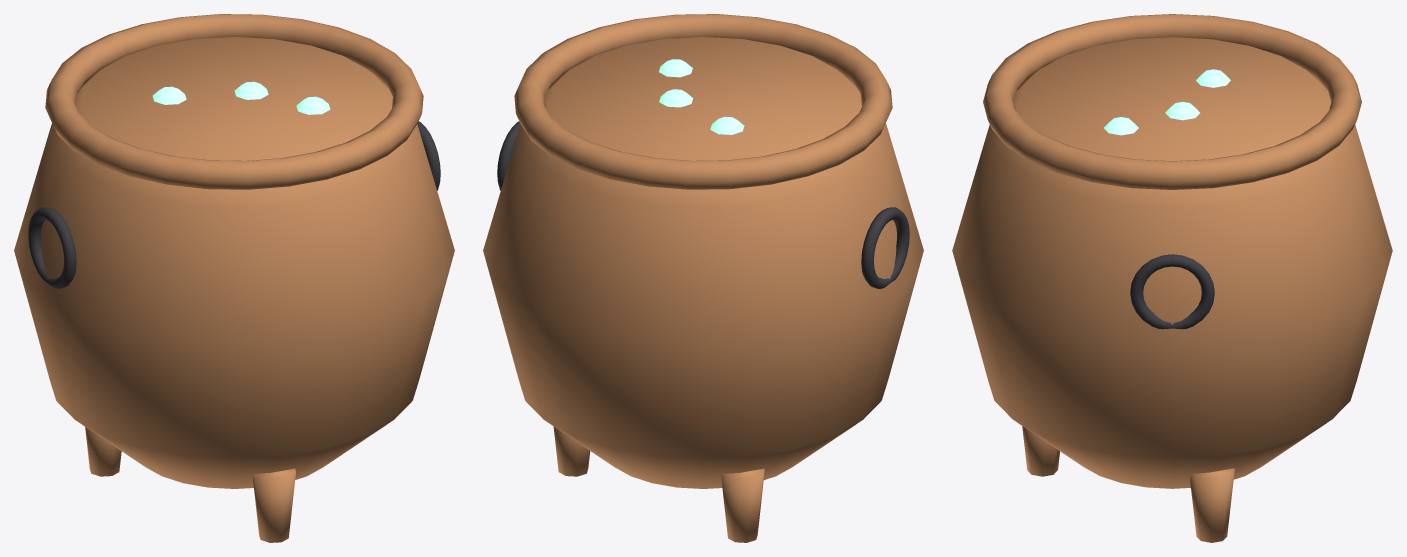
File: cauldron_copper_big.glb
3 views of the same model, side by side, from view 1: azimuth 30°, elevation 25°; view 2: azimuth 150°, elevation 25°; view 3: azimuth 270°, elevation 25° (orthographic).
Parts seen in each view (by area): view 1: GD_cauldron_copper_big__m0, GD_cauldron_copper_big__m2, GD_cauldron_copper_big__m1; view 2: GD_cauldron_copper_big__m0, GD_cauldron_copper_big__m2, GD_cauldron_copper_big__m1; view 3: GD_cauldron_copper_big__m0, GD_cauldron_copper_big__m2, GD_cauldron_copper_big__m1.
Boxes of the visible parts, x1,y1,x2,y2 form: GD_cauldron_copper_big__m0: (14, 14, 454, 542); GD_cauldron_copper_big__m2: (28, 121, 440, 288); GD_cauldron_copper_big__m1: (152, 81, 330, 114); GD_cauldron_copper_big__m0: (483, 14, 923, 542); GD_cauldron_copper_big__m2: (497, 121, 909, 288); GD_cauldron_copper_big__m1: (659, 59, 744, 134); GD_cauldron_copper_big__m0: (952, 14, 1392, 542); GD_cauldron_copper_big__m2: (1130, 254, 1214, 329); GD_cauldron_copper_big__m1: (1104, 69, 1230, 135).
Size of the model in its own units: 0.946 by 0.935 by 0.946.
